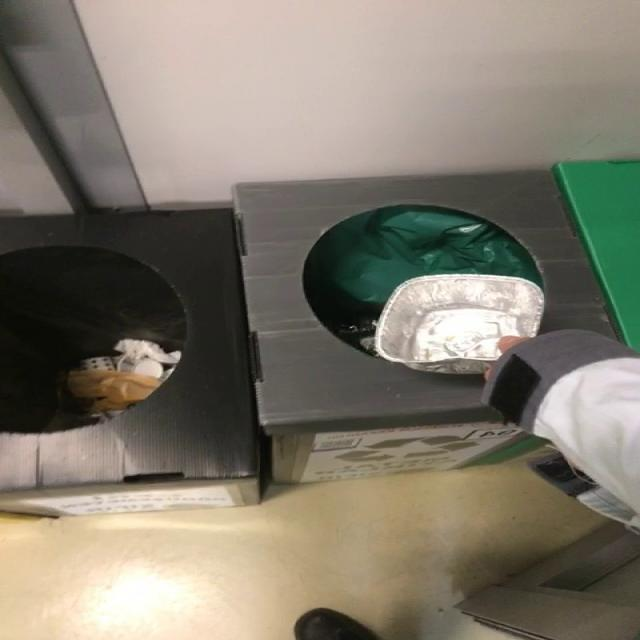Metal: (375, 275, 544, 374)
